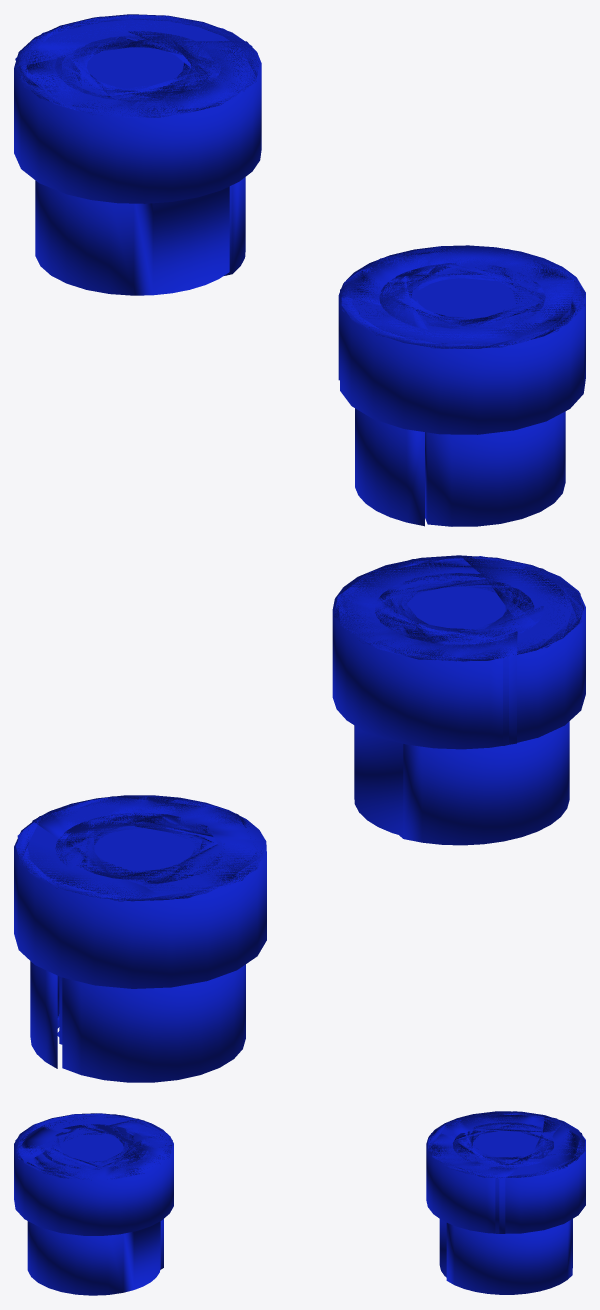
The model's file is tuyeau_element_000006.obj.
3 views of the same model, one above another, from view 1: azimuth 30°, elevation 25°; view 2: azimuth 150°, elevation 25°; view 3: azimuth 270°, elevation 25° (orthographic). The views are drawn at different scales.
Visible parts, largest first — view 1: tuyeau2_Cube.017, tuyeau1_Cube.014; view 2: tuyeau2_Cube.017, tuyeau1_Cube.014; view 3: tuyeau1_Cube.014, tuyeau2_Cube.017.
Part boxes in pixels (x1,y1,x2,y2): tuyeau2_Cube.017: [338, 245, 585, 526]; tuyeau1_Cube.014: [14, 14, 261, 295]; tuyeau2_Cube.017: [332, 555, 585, 845]; tuyeau1_Cube.014: [14, 795, 266, 1082]; tuyeau1_Cube.014: [426, 1111, 585, 1294]; tuyeau2_Cube.017: [14, 1113, 173, 1295].
Size of the model in its own units: 3614 by 2917 by 12555.
